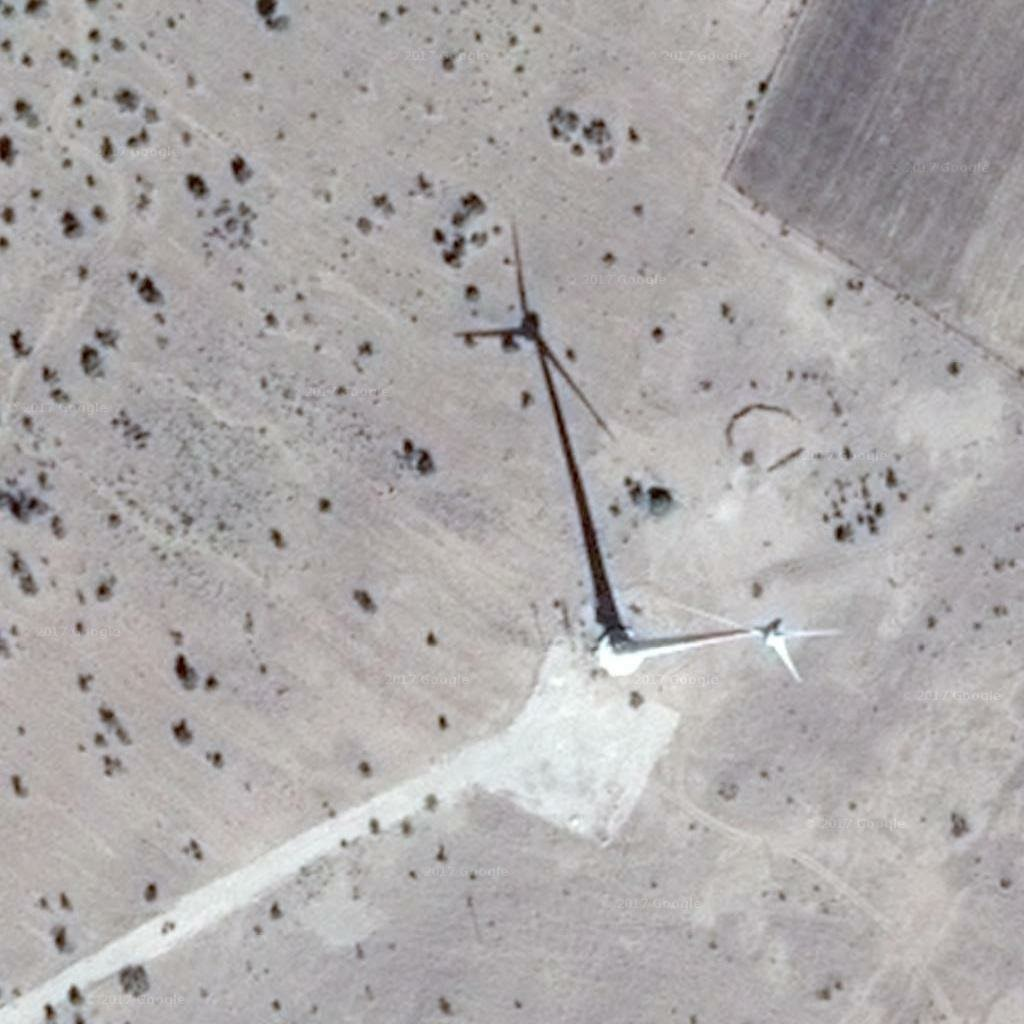Windmill: (447, 219, 641, 640)
